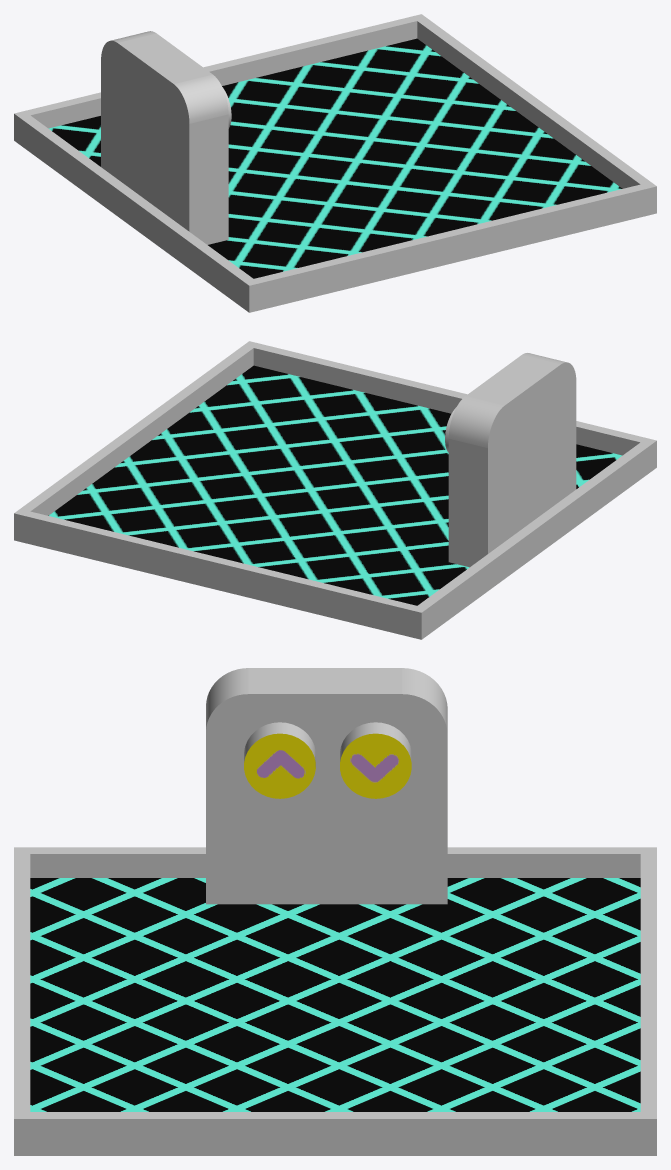
Rendered from ascensurFBX.fbx.
3 renders of one model, top to bottom at view 1: azimuth 30°, elevation 25°; view 2: azimuth 150°, elevation 25°; view 3: azimuth 270°, elevation 25°, orthographic. The views are drawn at different scales.
Visible parts, largest first — view 1: instance_1.003, instance_1, instance_2; view 2: instance_1.003, instance_1, instance_2; view 3: instance_1.003, instance_1, instance_2, instance_4.001, instance_3.001, instance_3, instance_4.
Boxes of the visible parts, x1,y1,x2,y2 form: instance_1.003: (48, 38, 622, 278); instance_1: (14, 14, 656, 312); instance_2: (101, 31, 228, 244); instance_1.003: (48, 365, 622, 605); instance_1: (14, 341, 656, 639); instance_2: (448, 353, 576, 567); instance_1.003: (30, 878, 640, 1111); instance_1: (14, 847, 656, 1155); instance_2: (206, 668, 447, 904); instance_4.001: (340, 733, 411, 798); instance_3.001: (244, 733, 315, 798); instance_3: (244, 722, 315, 767); instance_4: (340, 722, 411, 761).
Size of the model in its own units: 226 by 86.69 by 226.
